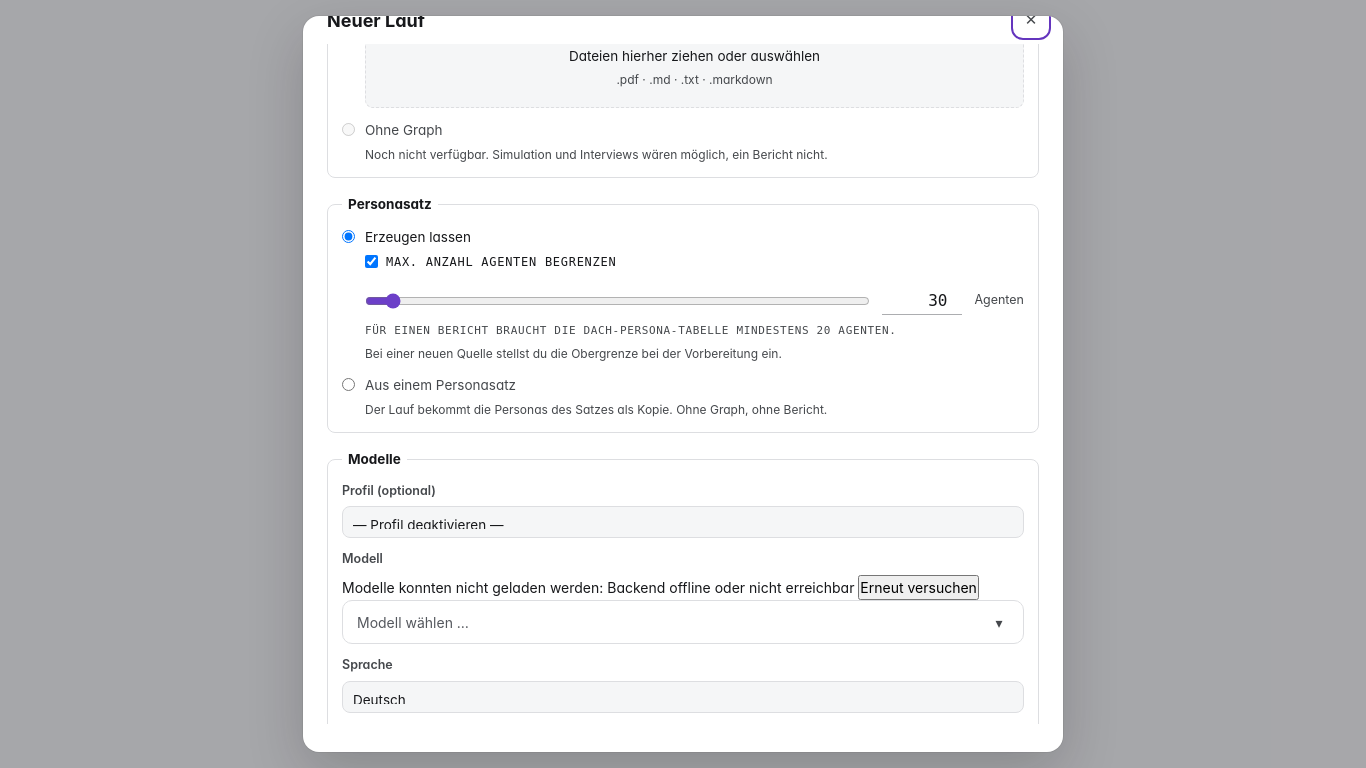
it: NewRunDialog — Aufbau › Personasatz wählen (#1807) › verlangt die Frage auch ohne Graph
(page scrolled)
Click the radio button named "persona-mode".
click(348, 384)  # box [342,378,355,391]
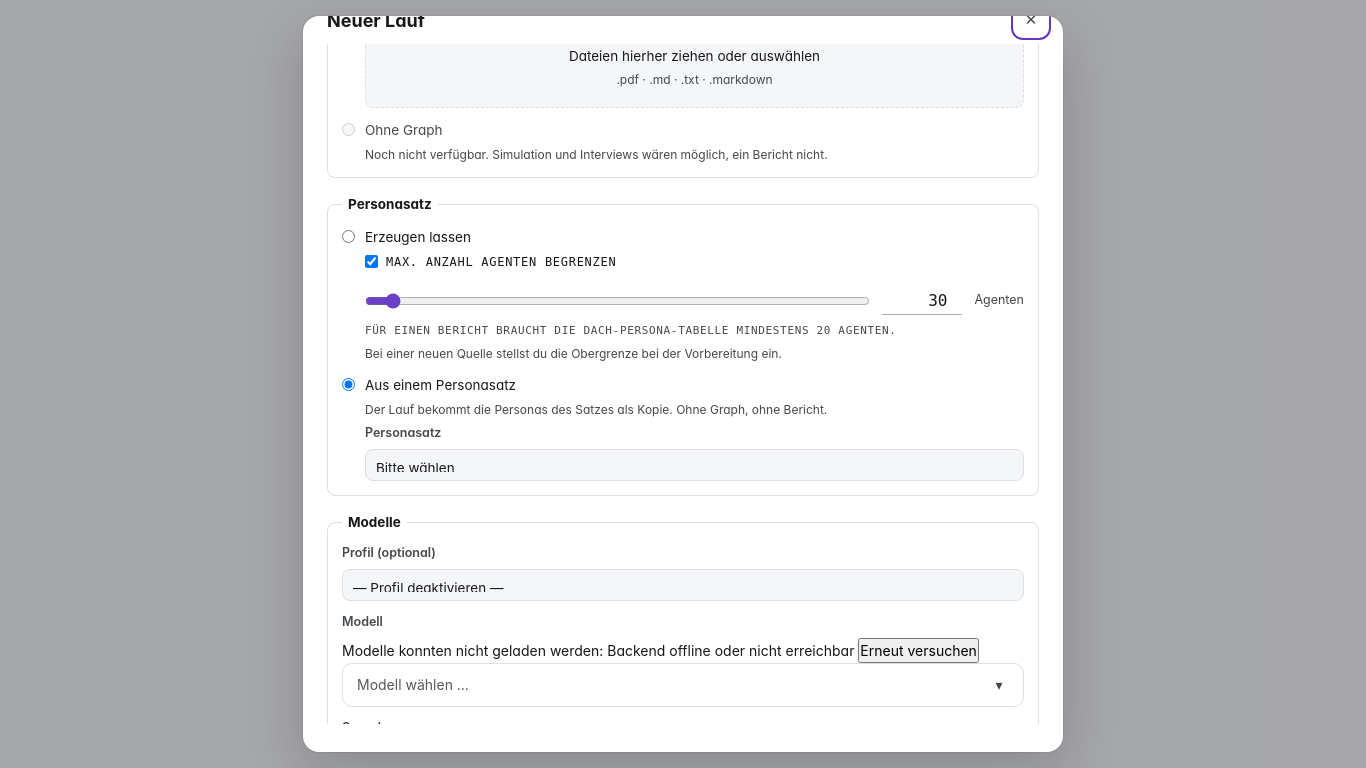
Select "Betroffene (12 Personas)" in the dropdown labelled "Personasatz" at (694, 465), box [365,449,1024,481]
(page scrolled)
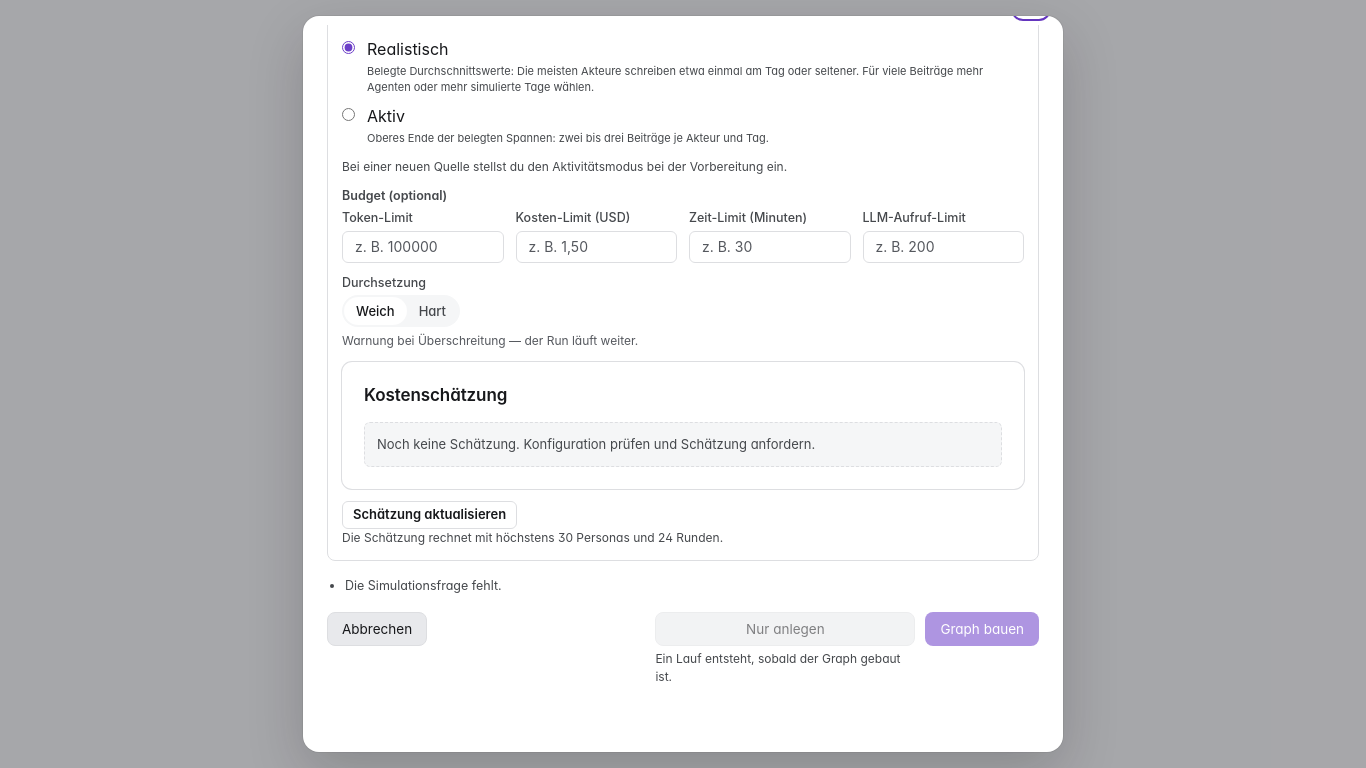
Expected: the text "Die Simulationsfrage fehlt." is shown, [345,578,502,593]
